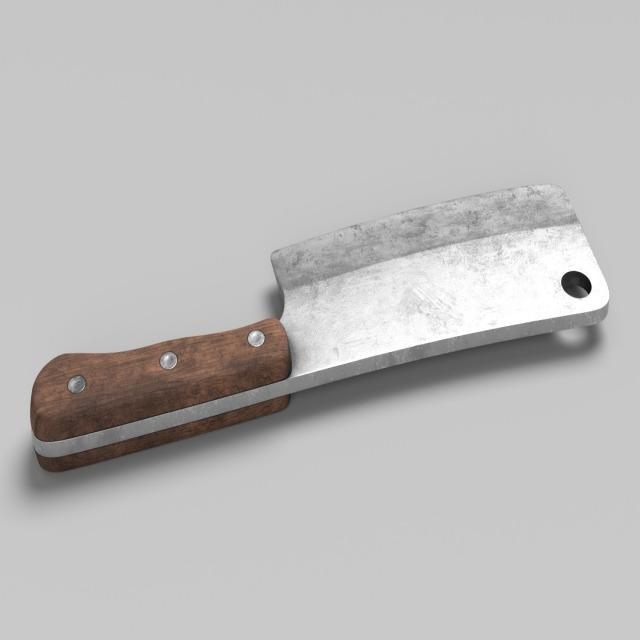cleaver: (34, 178, 611, 470)
